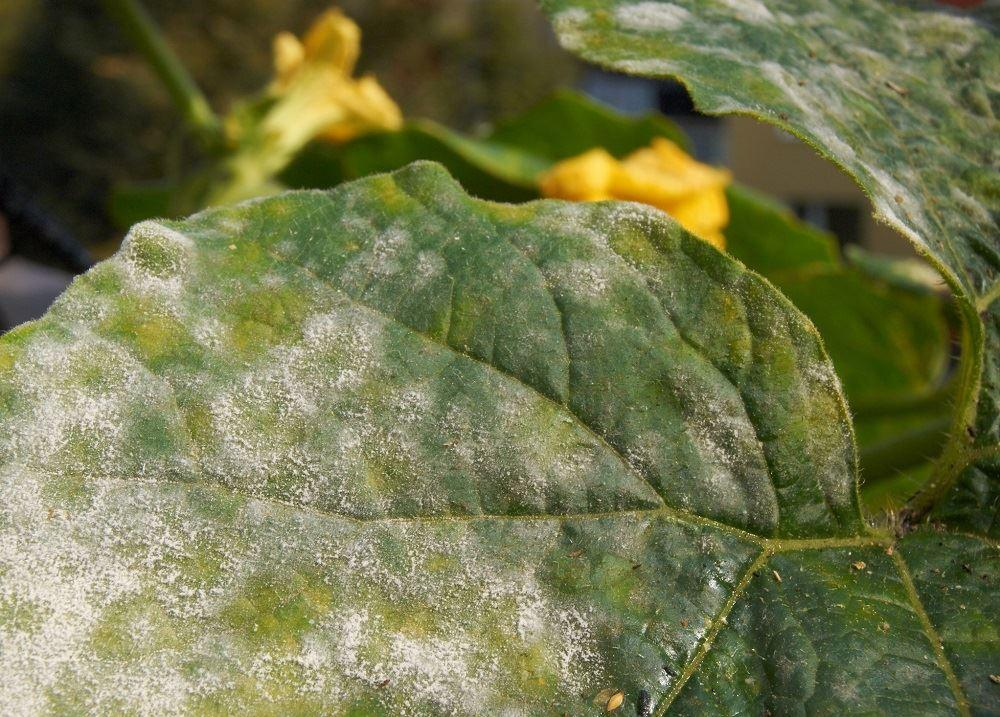Squash Powdery mildew leaf: (1, 166, 911, 716)
